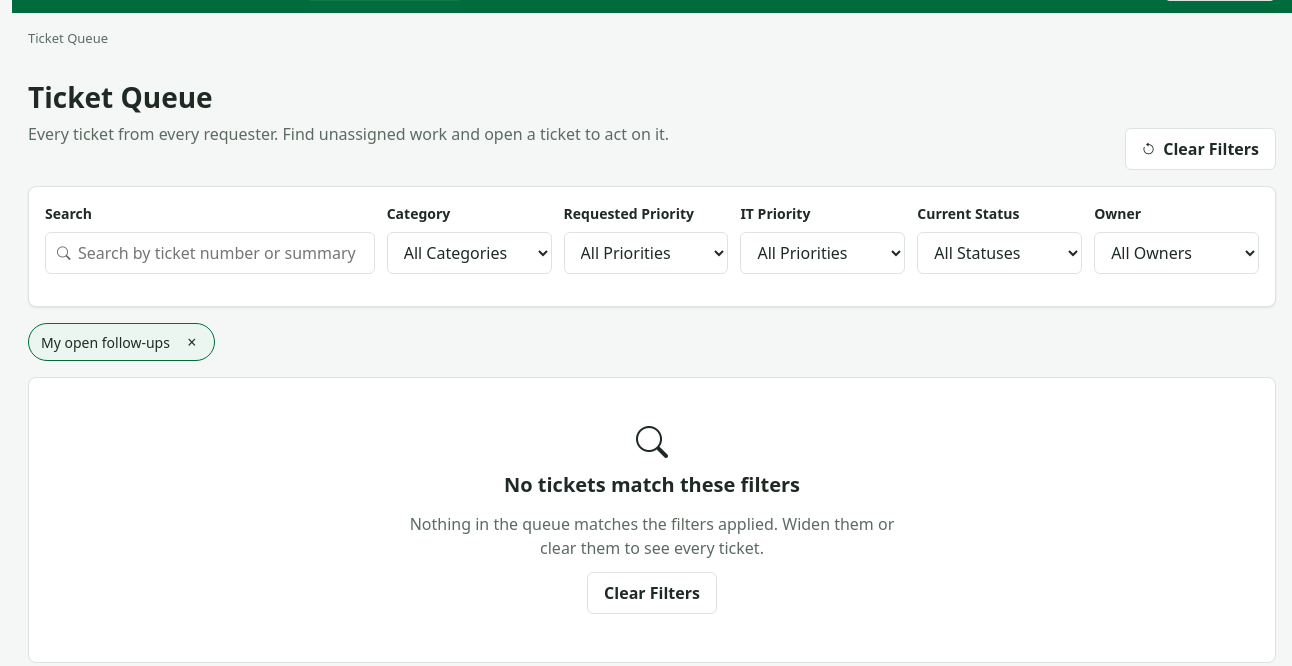
Test: UI-18 the queue reads URL filters › sends followUp=mine and shows its chip, which removal clears from the address and the list
The width and height of the screenshot is (1292, 666).
Expected: the text "My open follow-ups" is shown, [41,333,170,352]
Click the button named "Remove the My open follow-ups filter".
click(192, 342)  # box [178,328,206,356]
(page scrolled)
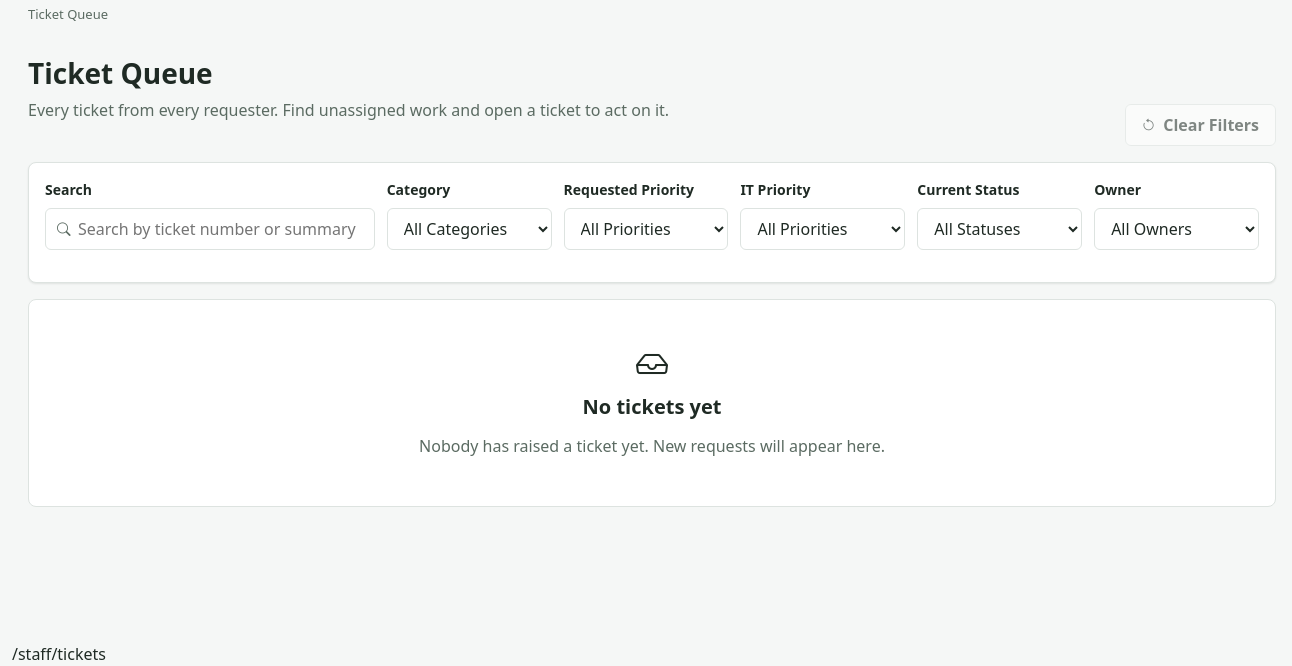
Now the text "My open follow-ups" is gone
Now the text with test id "where" reads "/staff/tickets", box [12,643,106,665]
